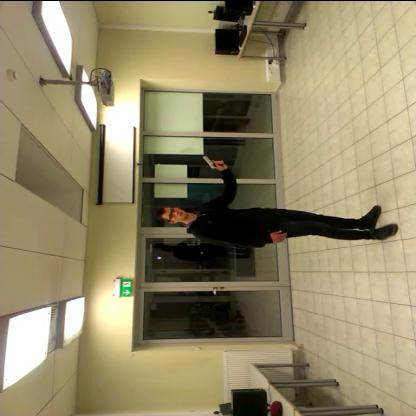Pistol: (195, 148, 239, 176)
